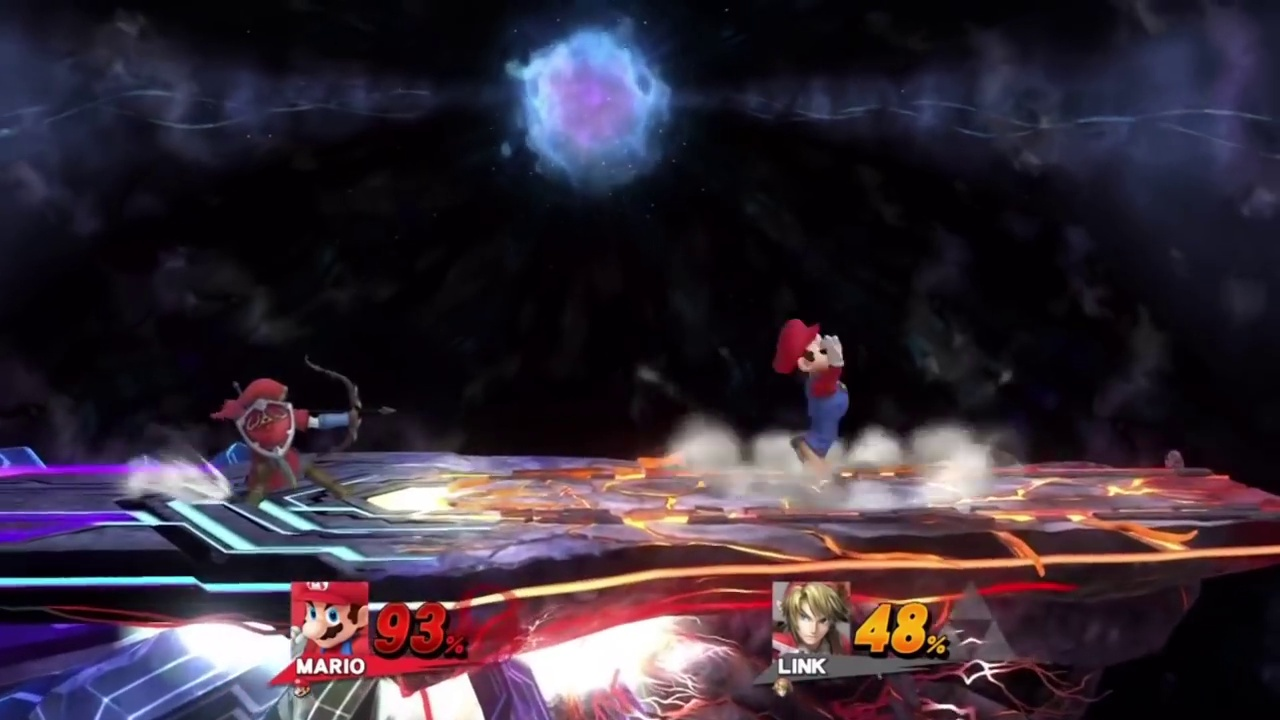Mario: (761, 323, 857, 469)
